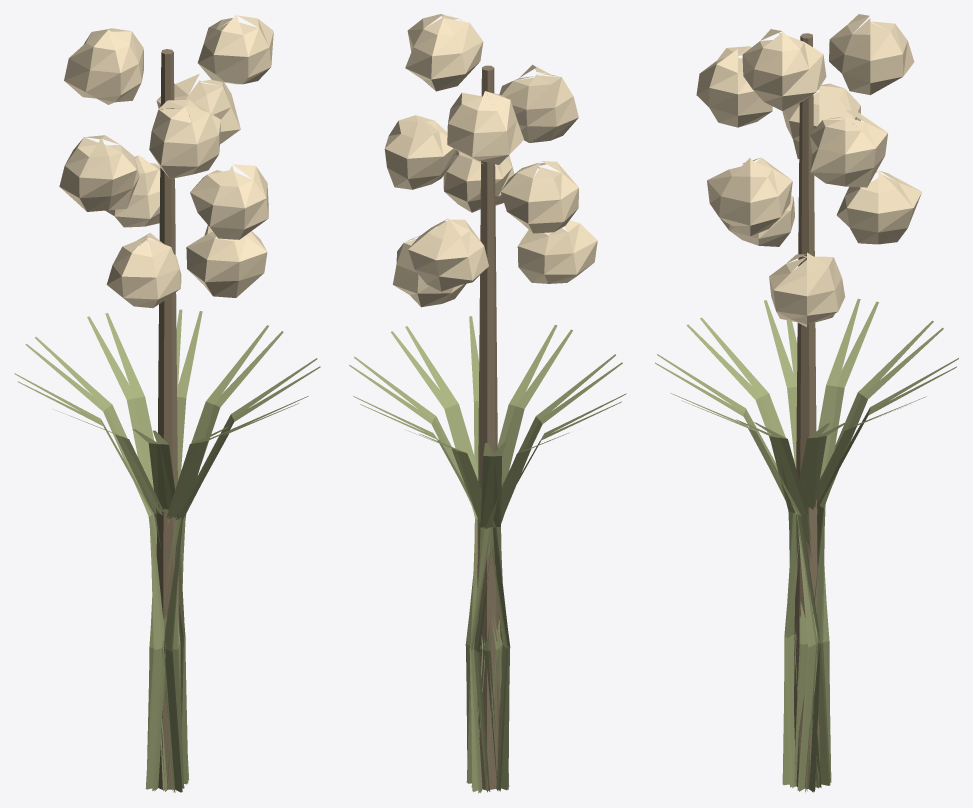
File: desert-canyons-and-oases-yucca-25254440__21002.glb
3 views of the same model, side by side, from view 1: azimuth 30°, elevation 25°; view 2: azimuth 150°, elevation 25°; view 3: azimuth 270°, elevation 25° (orthographic). The views are drawn at different scales.
Visible parts, largest first — view 1: yucca; view 2: yucca; view 3: yucca.
Part boxes in pixels (x1,y1,x2,y2): yucca: (14, 14, 320, 792); yucca: (349, 14, 626, 793); yucca: (655, 14, 958, 792).
Size of the model in its own units: 0.5412 by 1.57 by 0.5527.
